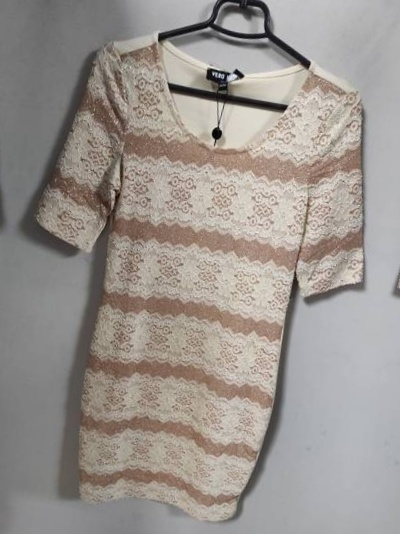Dress: (4, 8, 400, 534), (351, 63, 400, 534), (0, 0, 13, 473)
